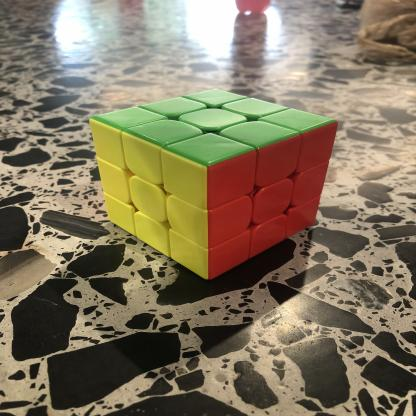SolvedCube: (83, 73, 337, 285)
